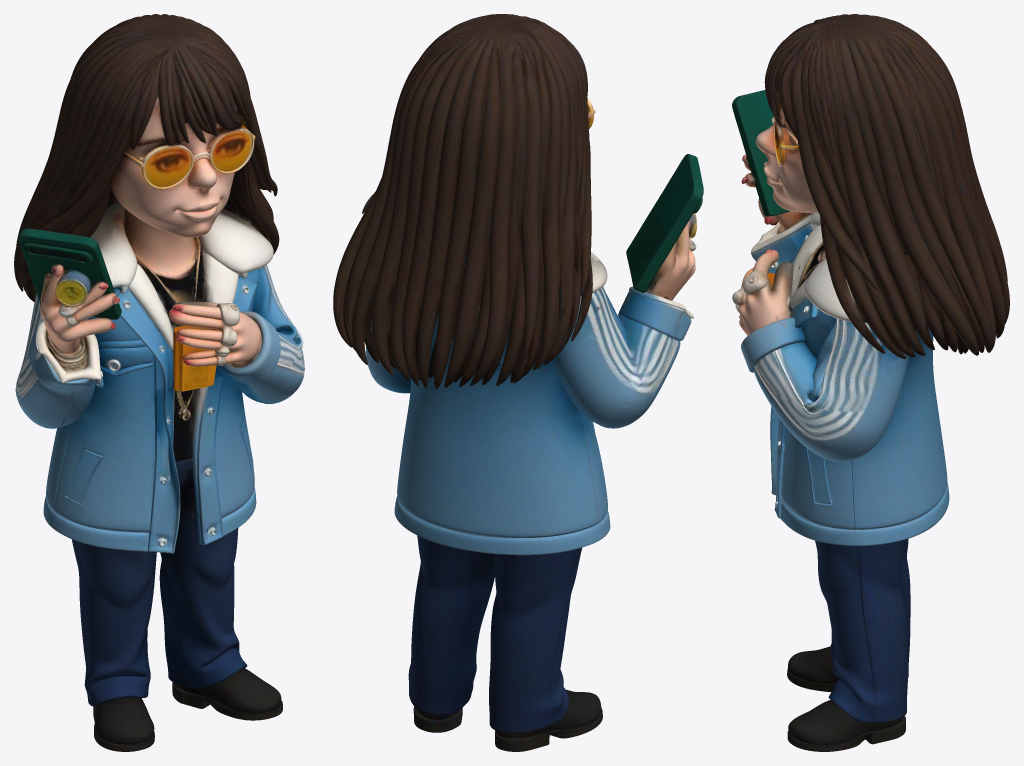
Rendered from character3_optimized.glb.
The picture shows the model from 3 angles, left to right: view 1: azimuth 30°, elevation 25°; view 2: azimuth 150°, elevation 25°; view 3: azimuth 270°, elevation 25°; orthographic projection. The views are drawn at different scales.
Parts seen in each view (by area): view 1: Figure; view 2: Figure; view 3: Figure.
Boxes of the visible parts, <box> form: Figure: <box>14,14,304,751</box>; Figure: <box>333,14,703,751</box>; Figure: <box>732,14,1009,751</box>.
Size of the model in its own units: 45.65 by 100 by 36.82.
Materials: 1 (1 with a texture image).
